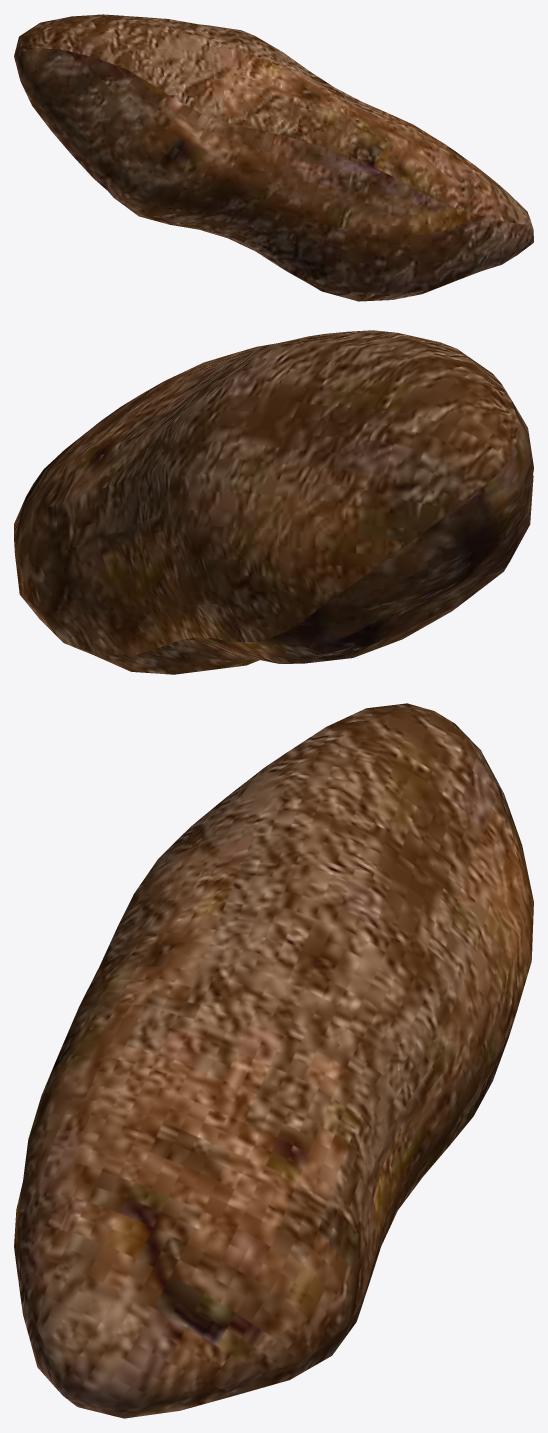
Rendered from Poop.fbx.
The picture shows the model from 3 angles, top to bottom: view 1: azimuth 30°, elevation 25°; view 2: azimuth 150°, elevation 25°; view 3: azimuth 270°, elevation 25°; orthographic projection. The views are drawn at different scales.
Visible parts, largest first — view 1: Poop; view 2: Poop; view 3: Poop.
Part boxes in pixels (left/top/right/bottom): Poop: left=14, top=14, right=533, bottom=301; Poop: left=14, top=330, right=533, bottom=674; Poop: left=14, top=703, right=533, bottom=1418.
Bounding box in the file's own units: 77.84 × 49.35 × 51.48.
Materials: 1 (1 with a texture image).
